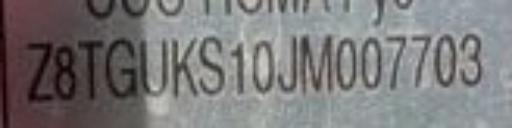letter: (102, 38, 140, 102), (75, 34, 109, 102), (300, 32, 336, 96), (193, 32, 227, 96), (168, 34, 200, 100), (24, 40, 56, 106), (137, 34, 171, 96), (380, 30, 412, 90), (356, 34, 386, 94), (430, 31, 458, 93), (455, 31, 483, 93), (246, 37, 274, 99), (50, 43, 78, 105), (334, 34, 362, 94), (275, 34, 299, 96), (225, 37, 249, 99), (409, 30, 433, 90)
